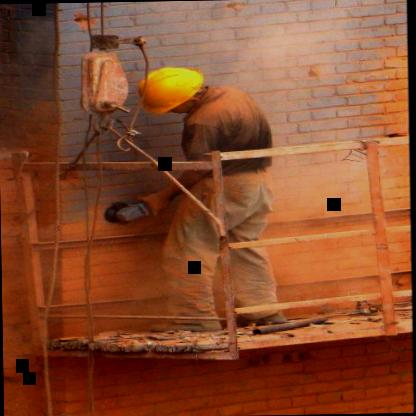helmet: (138, 61, 209, 115)
